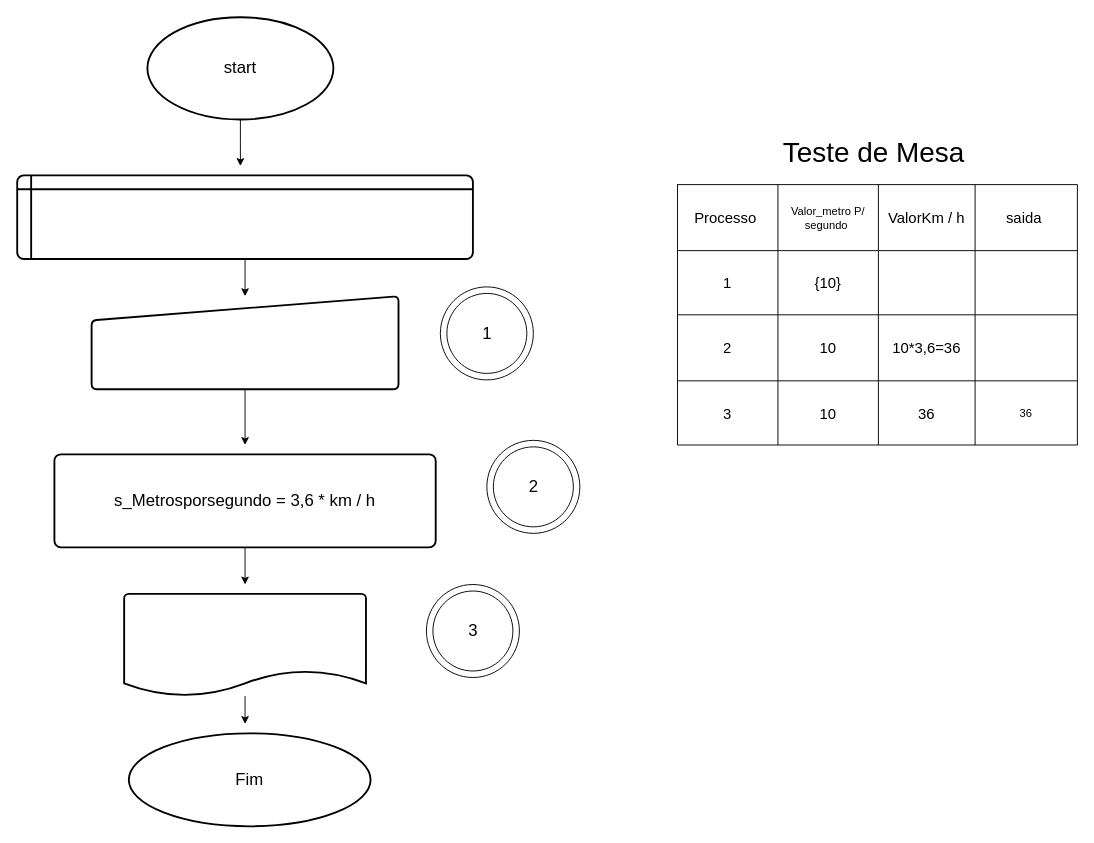
Some shapes in this 1094 by 843 pixel diagram are drawn without their labels. The centre of each missing label's shape, as x and y in pixels:
e_MetroporSegundo: (244,342)
e_MetroporSegundo, s_KilometroporHora: (244,216)
s_KiloMetrosporHora: (244,644)
